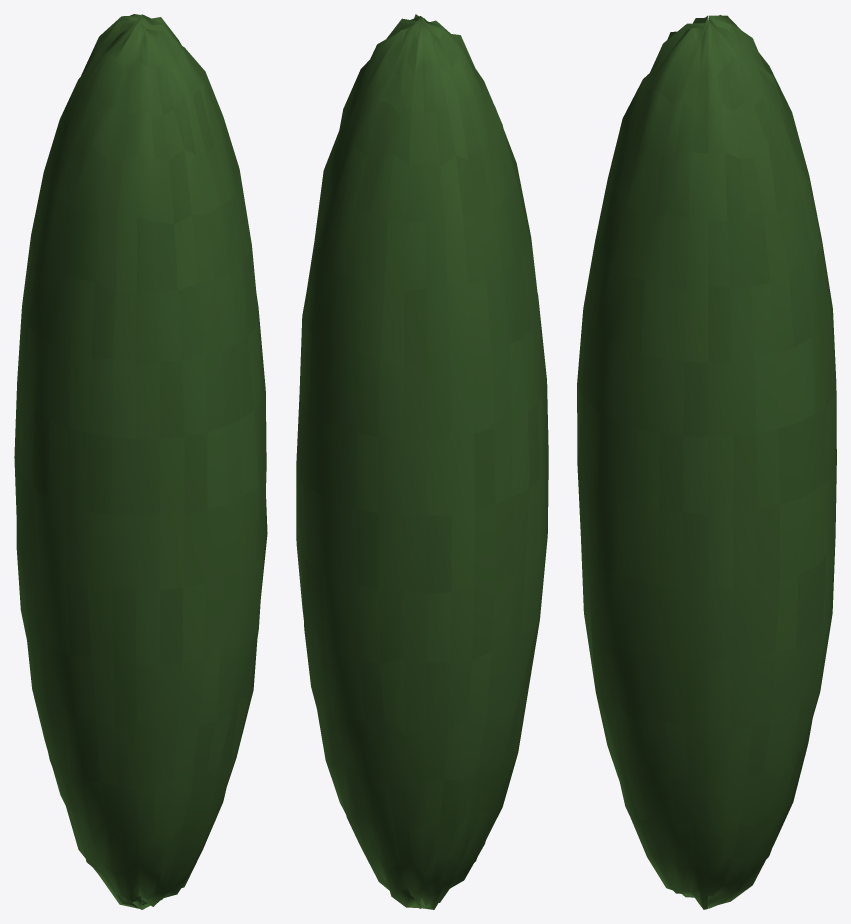
Rendered from Cucumber.glb.
The picture shows the model from 3 angles, left to right: view 1: azimuth 30°, elevation 25°; view 2: azimuth 150°, elevation 25°; view 3: azimuth 270°, elevation 25°; orthographic projection.
Parts seen in each view (by area): view 1: Cucumber; view 2: Cucumber; view 3: Cucumber.
Part boxes in pixels (<box>): Cucumber: <box>14,14,267,909</box>; Cucumber: <box>296,14,548,909</box>; Cucumber: <box>577,15,836,909</box>.
Size of what is drawn, in the model's own units: 0.0462 by 0.1817 by 0.0478.
